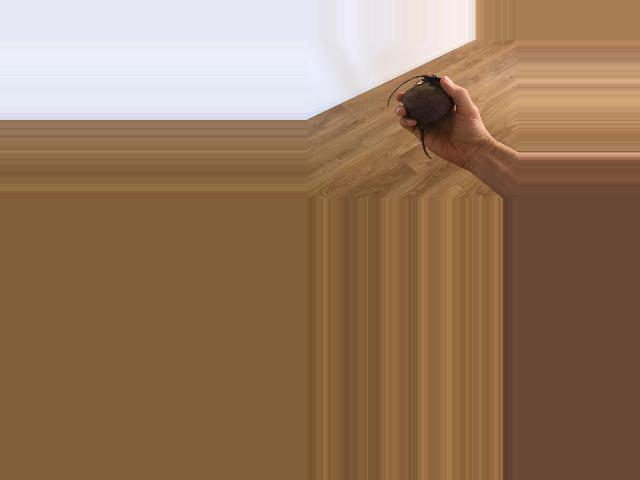beet: (386, 74, 453, 158)
